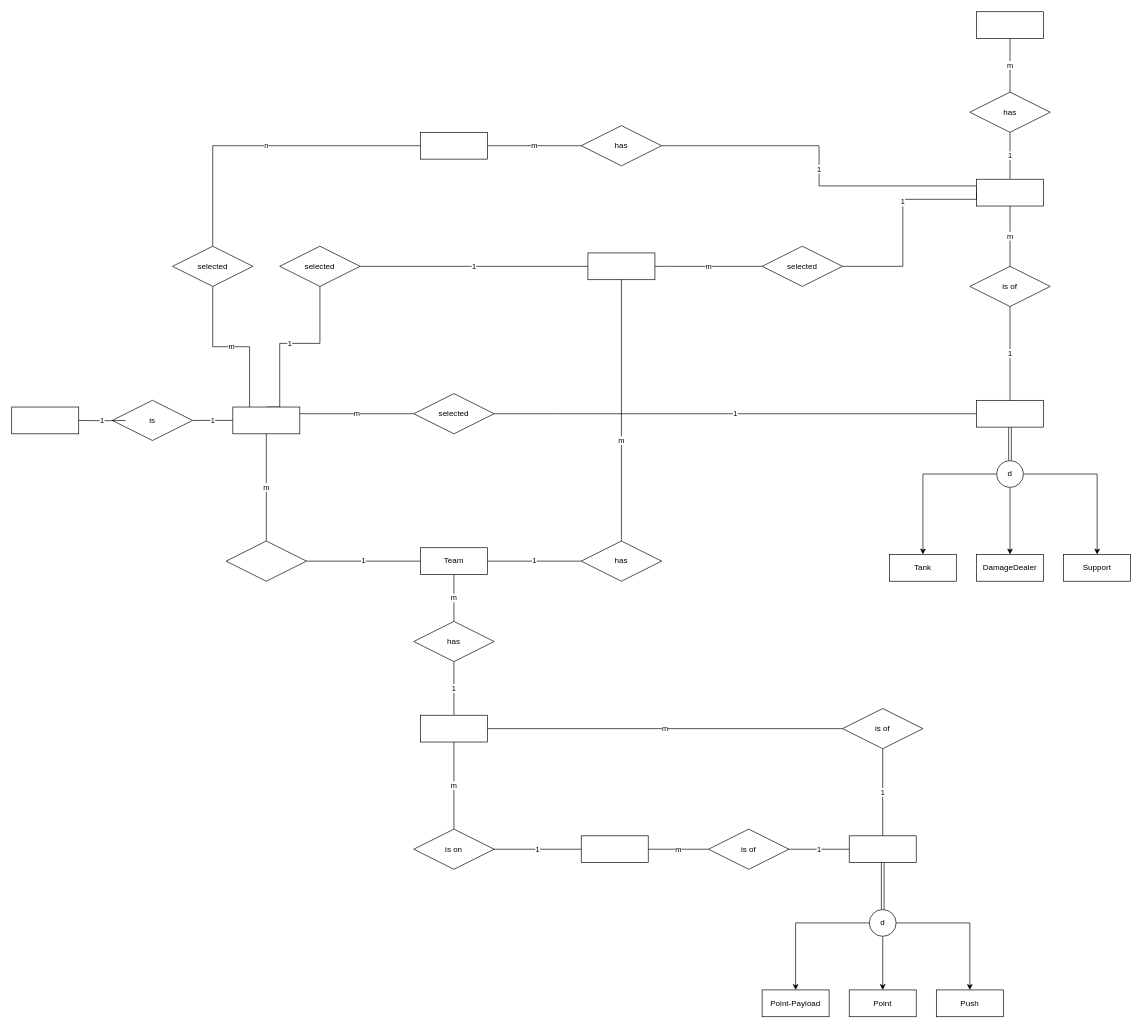
Some shapes in this 1142 by 1028 pixel diagram are drawn without their labels. Each missing label, with the box of its shape:
Ability: (976, 11, 1044, 39)
Account: (11, 406, 79, 434)
Game: (420, 715, 487, 742)
GameType: (849, 835, 916, 863)
Hero: (976, 179, 1044, 206)
HeroType: (976, 400, 1044, 427)
is in: (225, 540, 307, 581)
Map: (581, 835, 648, 863)
Player: (232, 406, 300, 434)
Player_Hero: (587, 252, 655, 280)
Skin: (420, 132, 487, 159)
